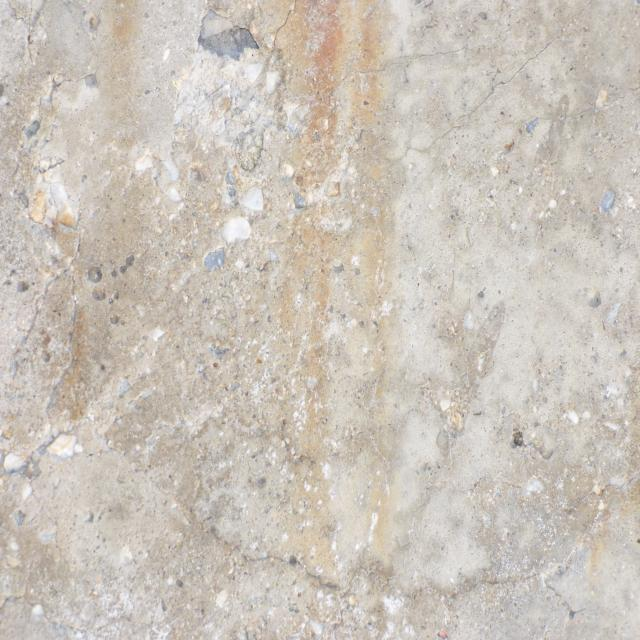corrosion: (264, 1, 413, 577), (46, 0, 153, 449), (561, 420, 640, 577), (0, 503, 82, 588)
